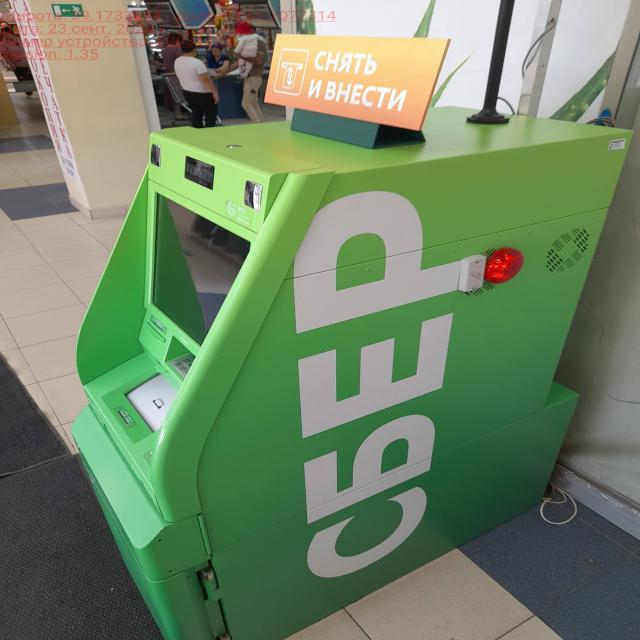bank: (68, 107, 640, 640)
